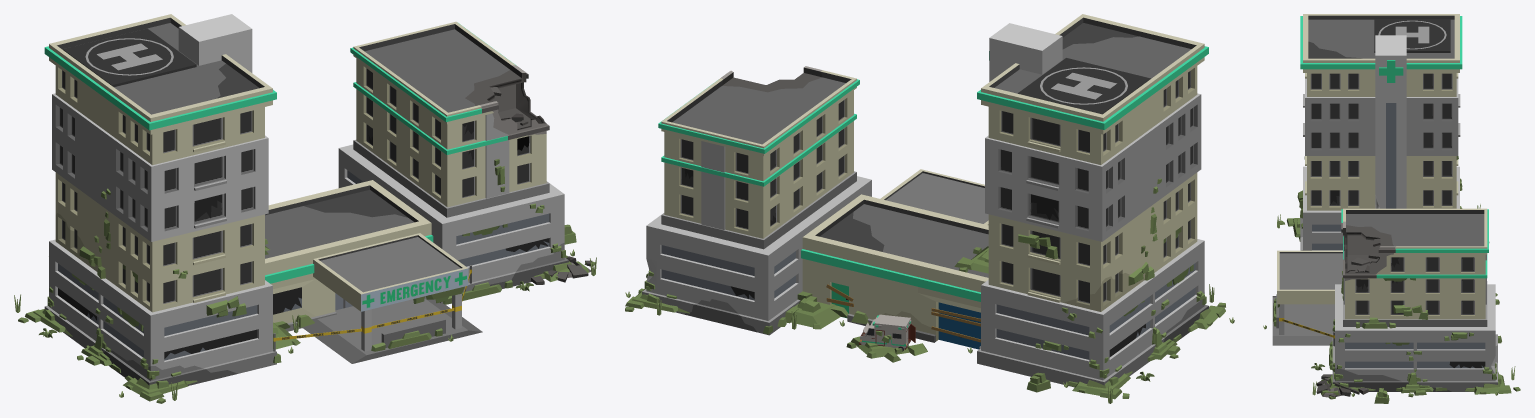
File: SA_Bld_HospitalBuildingMain_Damaged_01.fbx
3 renders of one model, left to right at view 1: azimuth 30°, elevation 25°; view 2: azimuth 150°, elevation 25°; view 3: azimuth 270°, elevation 25°, orthographic. The views are drawn at different scales.
Visible parts, largest first — view 1: SA_Bld_HospitalBuildingMain_Damaged_01, SA_Bld_HospitalBuildingMain_Growth_01, SA_Bld_HospitalBuildingMain_HeliPad_01; view 2: SA_Bld_HospitalBuildingMain_Damaged_01, SA_Bld_HospitalBuildingMain_Growth_01, SA_Bld_HospitalBuildingMain_HeliPad_01; view 3: SA_Bld_HospitalBuildingMain_Damaged_01, SA_Bld_HospitalBuildingMain_Growth_01, SA_Bld_HospitalBuildingMain_HeliPad_01.
Boxes of the visible parts, x1,y1,x2,y2 form: SA_Bld_HospitalBuildingMain_Damaged_01: [44, 14, 591, 385]; SA_Bld_HospitalBuildingMain_Growth_01: [14, 159, 596, 403]; SA_Bld_HospitalBuildingMain_HeliPad_01: [62, 28, 196, 86]; SA_Bld_HospitalBuildingMain_Damaged_01: [642, 14, 1208, 387]; SA_Bld_HospitalBuildingMain_Growth_01: [625, 178, 1234, 403]; SA_Bld_HospitalBuildingMain_HeliPad_01: [1017, 58, 1150, 114]; SA_Bld_HospitalBuildingMain_Damaged_01: [1272, 14, 1497, 397]; SA_Bld_HospitalBuildingMain_Growth_01: [1263, 156, 1520, 403]; SA_Bld_HospitalBuildingMain_HeliPad_01: [1374, 19, 1450, 52].
Bounding box in the file's own units: 74.07 × 41.31 × 42.28.
